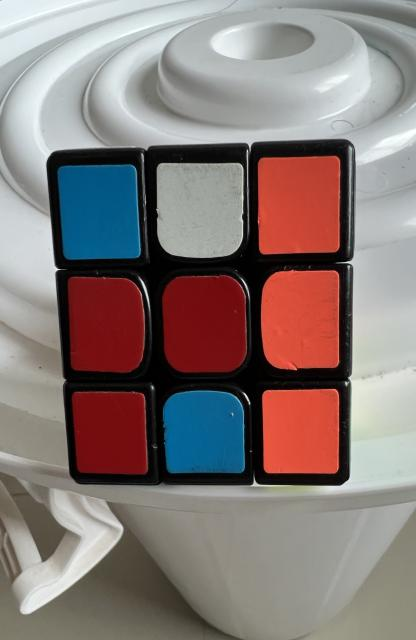Blue: (57, 165, 141, 260), (162, 390, 245, 474)
Orange: (258, 156, 340, 255), (261, 270, 339, 370), (262, 389, 339, 474)
Red: (162, 275, 247, 372), (67, 276, 145, 372), (72, 391, 147, 475)
White: (156, 162, 244, 259)
